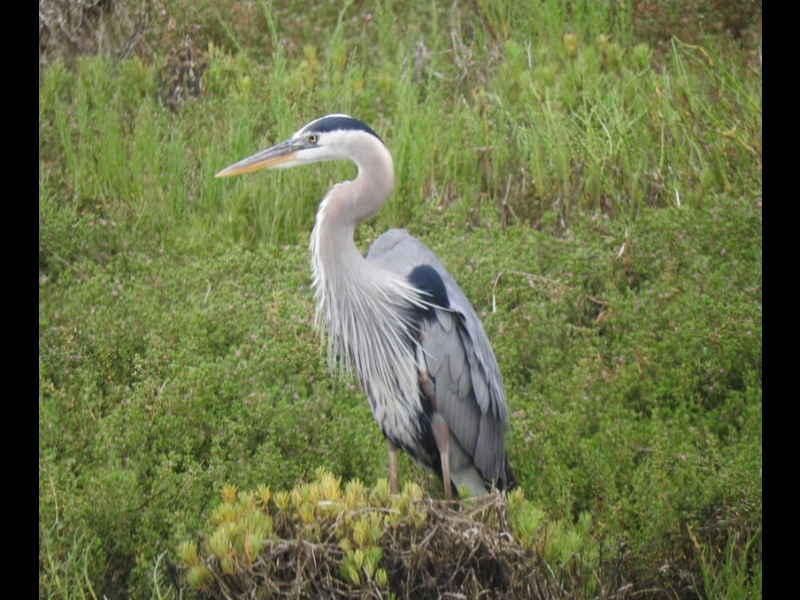heron: (210, 111, 516, 509)
